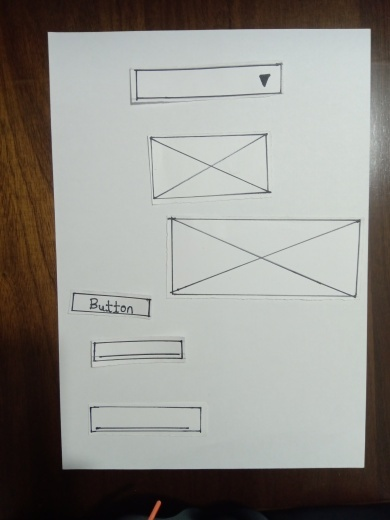button: (73, 293, 151, 319)
dropdown: (132, 66, 281, 95)
img: (170, 221, 362, 300), (147, 138, 272, 199)
text: (89, 406, 203, 431), (92, 340, 180, 364)
